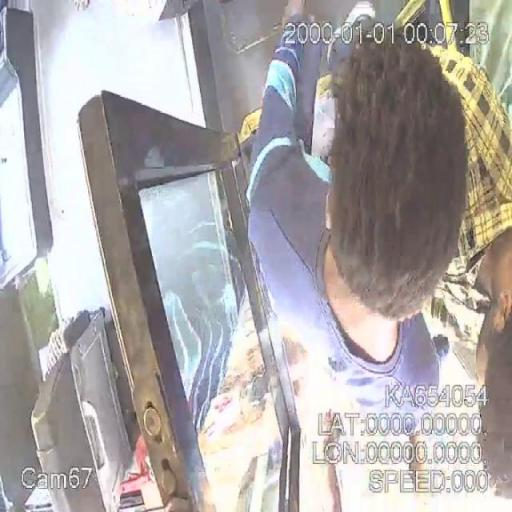persona: (239, 3, 510, 510)
